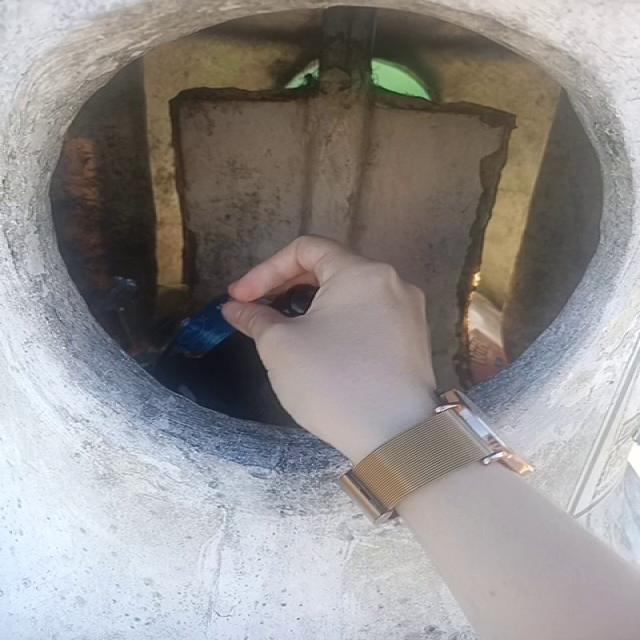glass: (163, 333, 276, 418), (269, 285, 319, 318)
